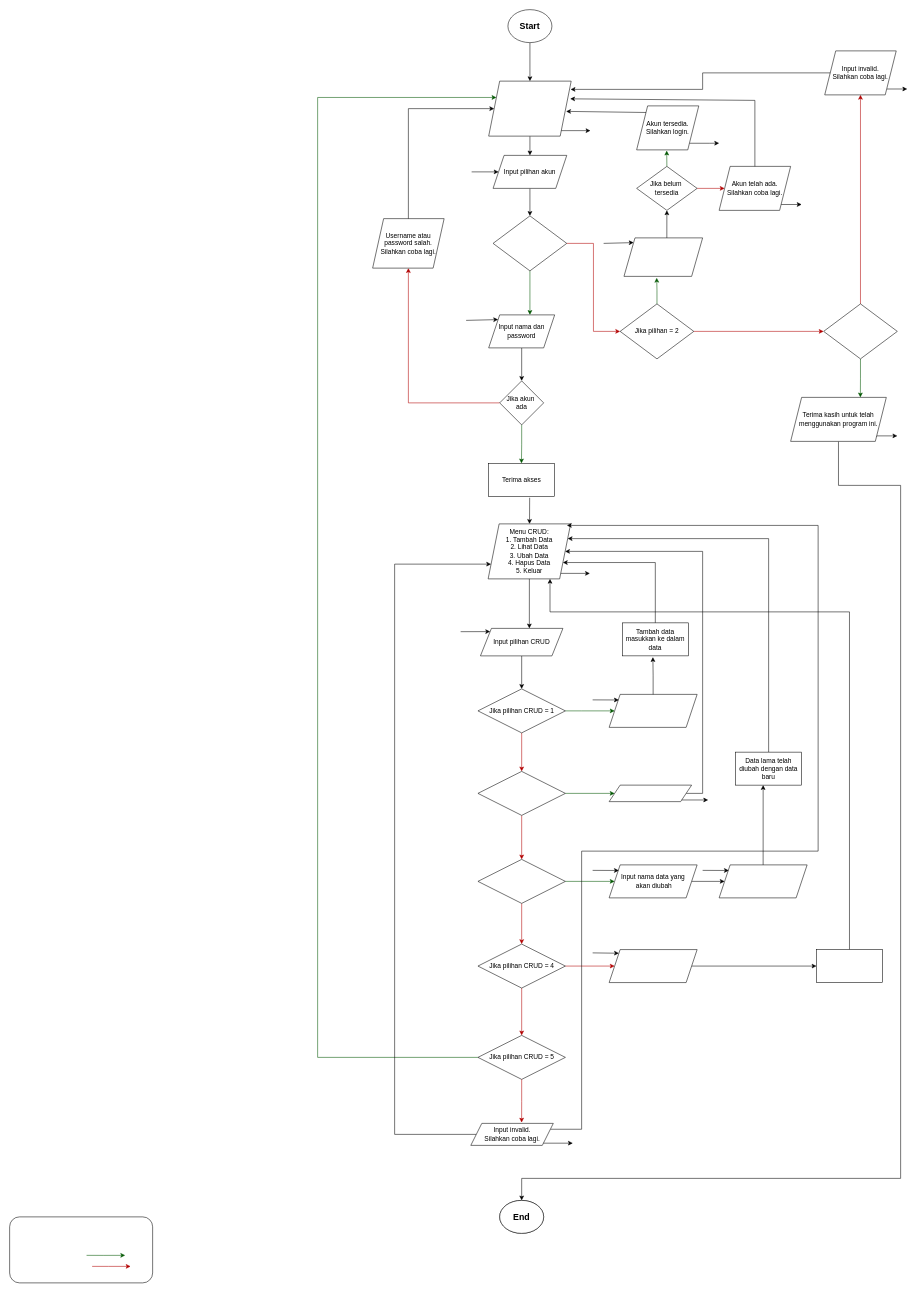
Image size: 921x1293. Some labels were removed from this diagram. Each missing label, with the centre of its shape:
Data telah dihapus: pixel 849 966
Input data yang akan dihapus: pixel 653 966
Input data-data baru: pixel 763 881
Input Nama dan data lainnya yang diperlukan: pixel 653 710
Input username dan password baru: pixel 663 256
Jika pilihan = 1: pixel 530 243
Jika pilihan = 3: pixel 860 331
Jika pilihan CRUD = 2: pixel 521 793
Jika pilihan CRUD = 3: pixel 521 881
Legenda: True False: pixel 81 1249
Menu akun: 1. Login 2. Registrasi 3. Keluar: pixel 529 108
Tampilkan semua data: pixel 650 793
